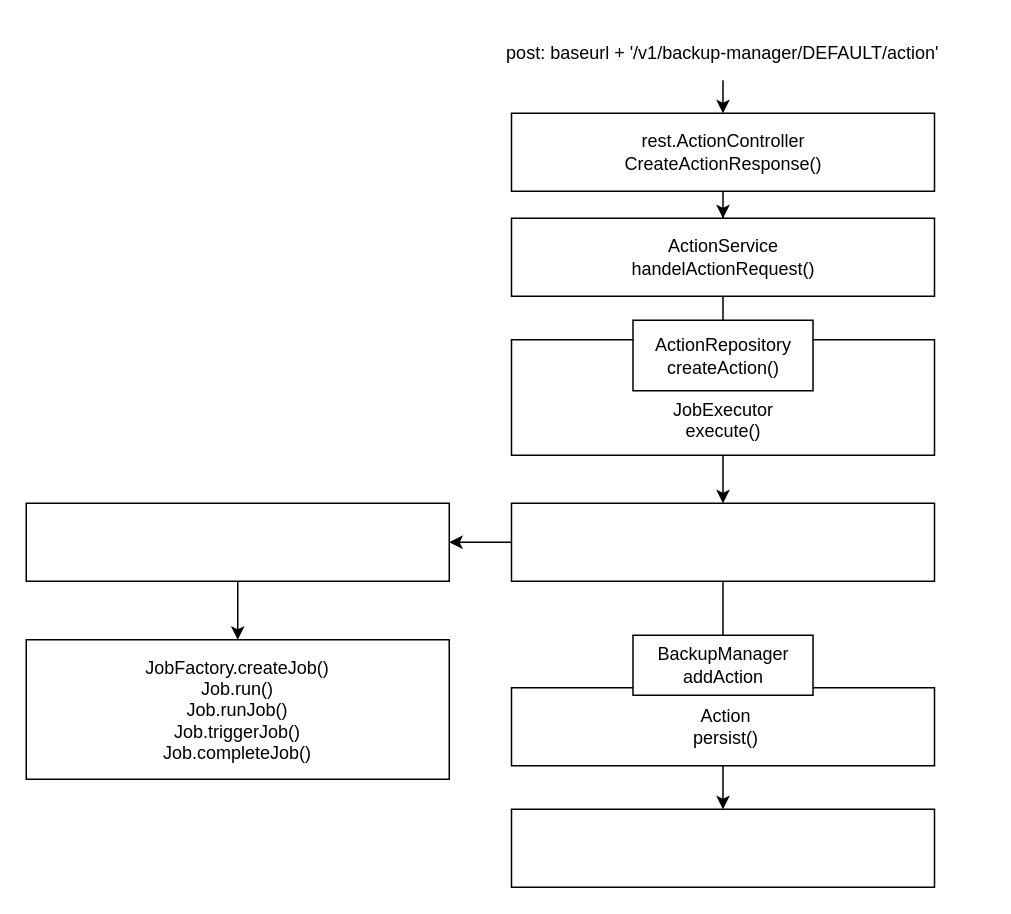
This 1011x914 diagram has some shape labels left out. Each missing label, with the box of its shape:
Consumer persistFunction.accept(): (510, 808, 934, 887)
job.QueueingJobExecutor queueAction() persistAcceptedAction(): (510, 502, 934, 581)
job.QueueingJobExecutor(new Thread) executeLoop(): (25, 502, 449, 581)
